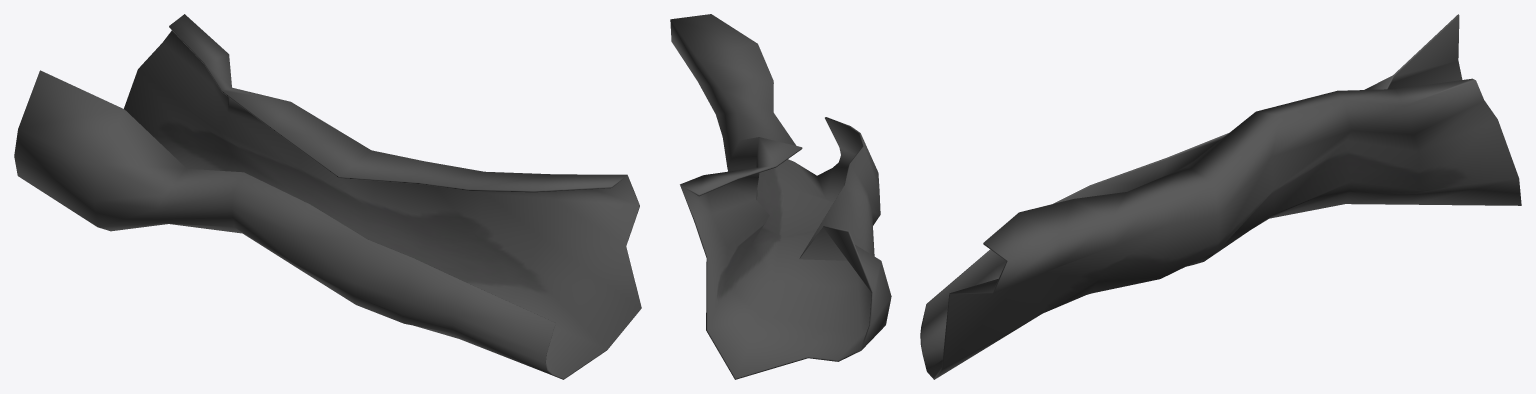
Rendered from clothInHand.fbx.
3 renders of one model, left to right at view 1: azimuth 30°, elevation 25°; view 2: azimuth 150°, elevation 25°; view 3: azimuth 270°, elevation 25°, orthographic. The views are drawn at different scales.
Visible parts, largest first — view 1: clothInHand; view 2: clothInHand; view 3: clothInHand.
Part boxes in pixels (box(x1,y1,x2,y2)): clothInHand: box(14, 14, 641, 379); clothInHand: box(670, 14, 891, 379); clothInHand: box(920, 14, 1521, 379).
Size of the model in its own units: 0.1374 by 0.0676 by 0.1628.
